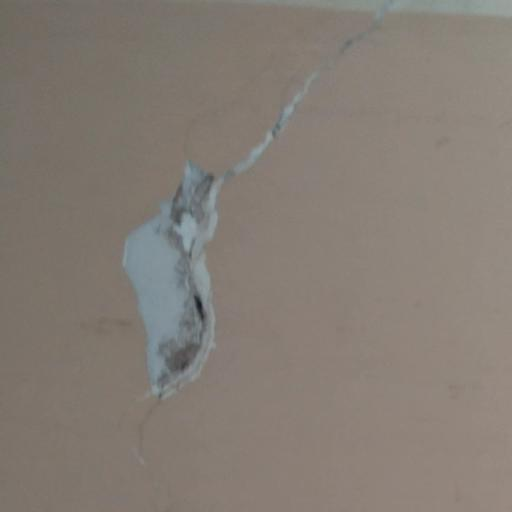peeling: (116, 0, 417, 427)
